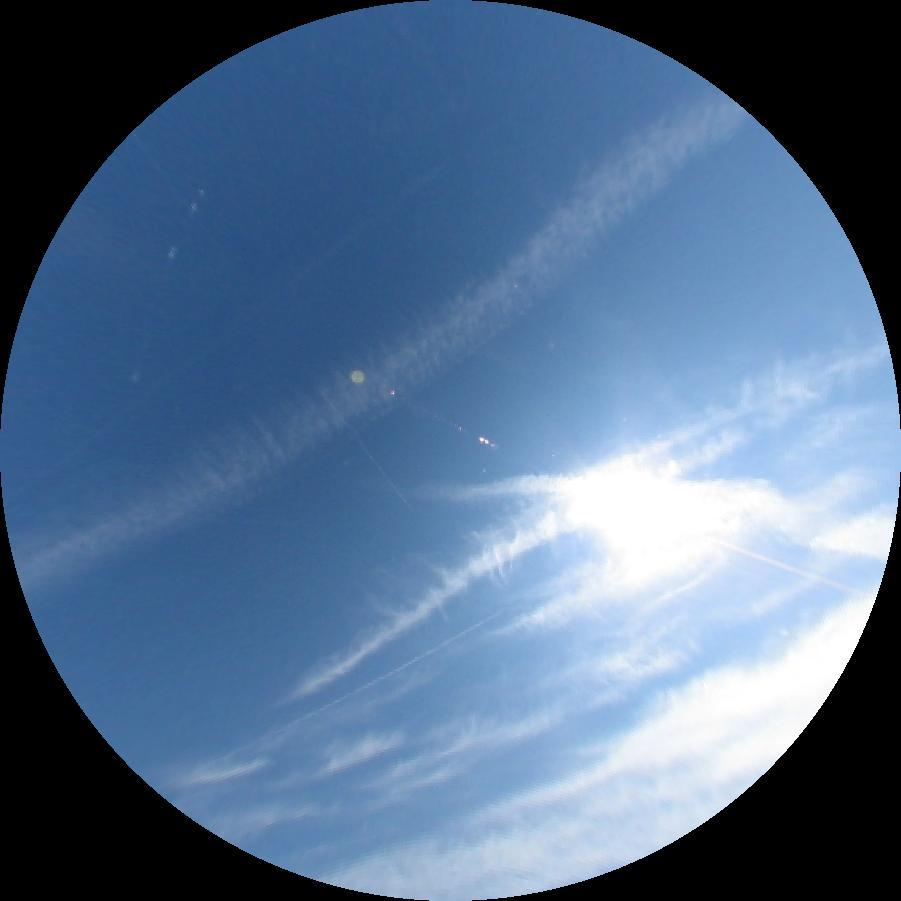contrail old: (0, 102, 523, 510), (312, 382, 416, 513)
contrail veryold: (2, 67, 771, 647), (249, 341, 827, 716), (392, 434, 895, 560)
contrail young: (180, 607, 508, 783)
parasite: (123, 198, 198, 382), (701, 533, 877, 599)
sun: (584, 476, 704, 553)
